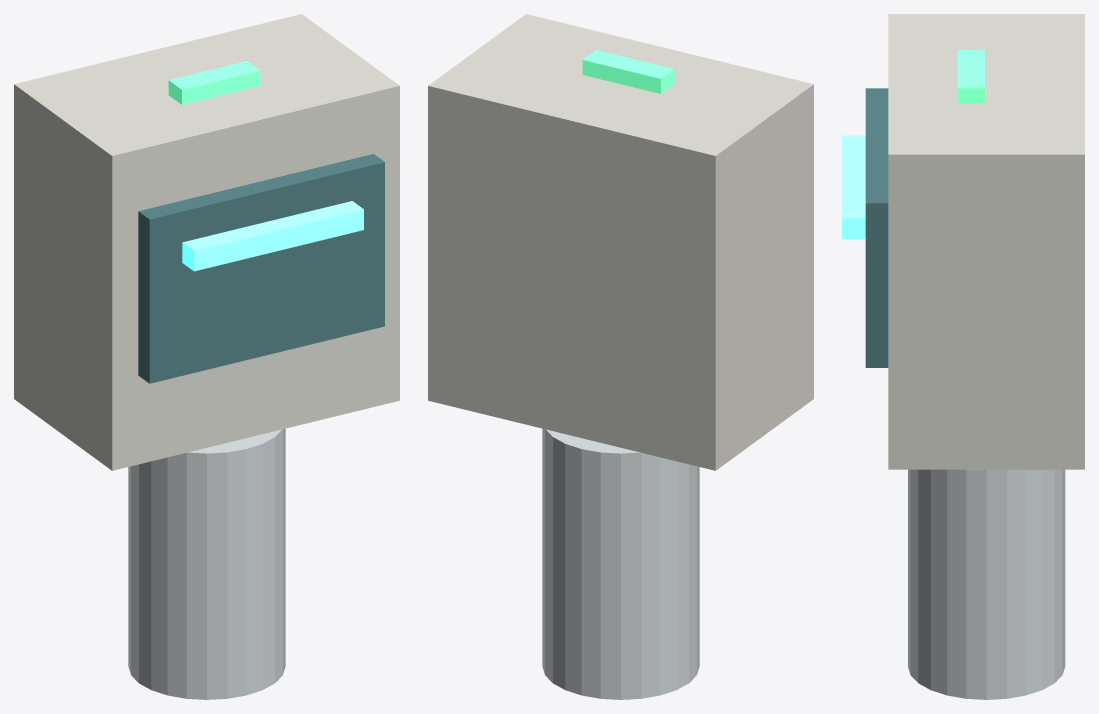
Rendered from s7-i06-sensor-pressure.glb.
3 renders of one model, left to right at view 1: azimuth 30°, elevation 25°; view 2: azimuth 150°, elevation 25°; view 3: azimuth 270°, elevation 25°, orthographic.
Visible parts, largest first — view 1: 000_sealed_field_sensor, 004_pressure_sensor_tip, 001_status_readout, 002_data_display_glow, 005_power_led; view 2: 000_sealed_field_sensor, 004_pressure_sensor_tip, 005_power_led; view 3: 000_sealed_field_sensor, 004_pressure_sensor_tip, 001_status_readout, 002_data_display_glow, 005_power_led.
Boxes of the visible parts, x1,y1,x2,y2 form: 000_sealed_field_sensor: (14,14,399,470); 004_pressure_sensor_tip: (128,428,285,699); 001_status_readout: (138,154,384,383); 002_data_display_glow: (182,201,363,271); 005_power_led: (168,61,260,104); 000_sealed_field_sensor: (428,14,813,470); 004_pressure_sensor_tip: (542,428,699,699); 005_power_led: (582,50,674,93); 000_sealed_field_sensor: (888,14,1084,469); 004_pressure_sensor_tip: (908,469,1065,699); 001_status_readout: (865,88,888,367); 002_data_display_glow: (842,135,865,238); 005_power_led: (957,50,984,103).
Bounding box in the file's own units: 0.22 × 0.436 × 0.1605.
